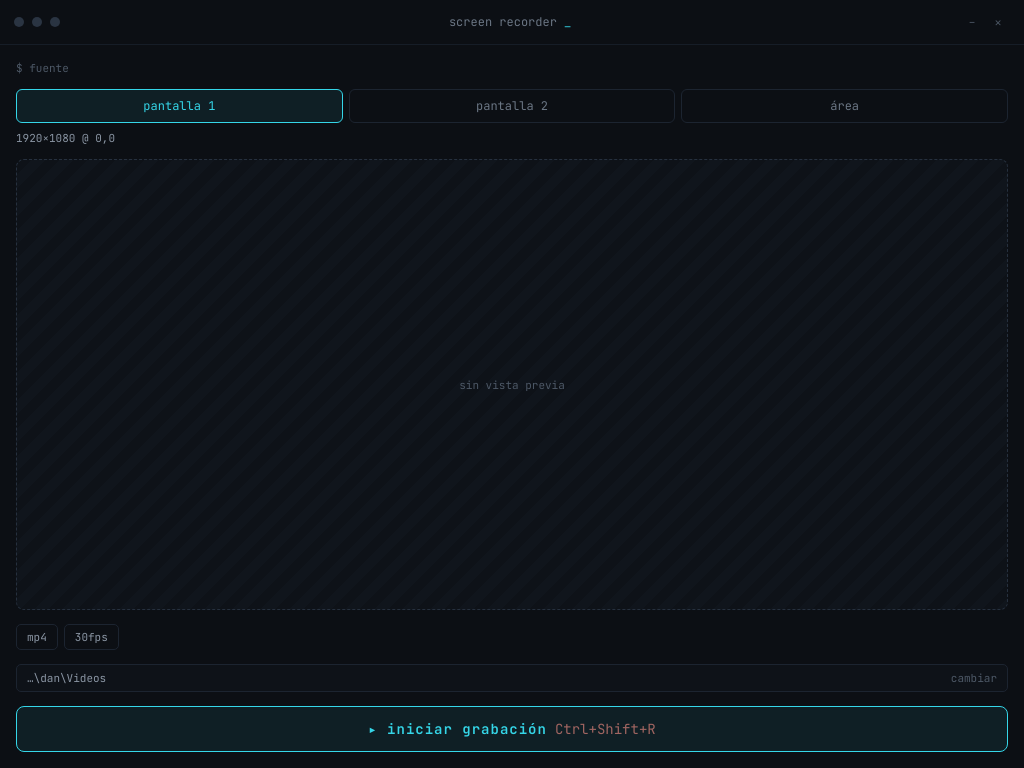
Scenario: modo grabación › no deja la barra puesta si falla el arranque
The image size is (1024, 768).
Click the button "▸ iniciar grabación Ctrl+Shift+R" at x=512, y=729, box [16,706,1008,752]
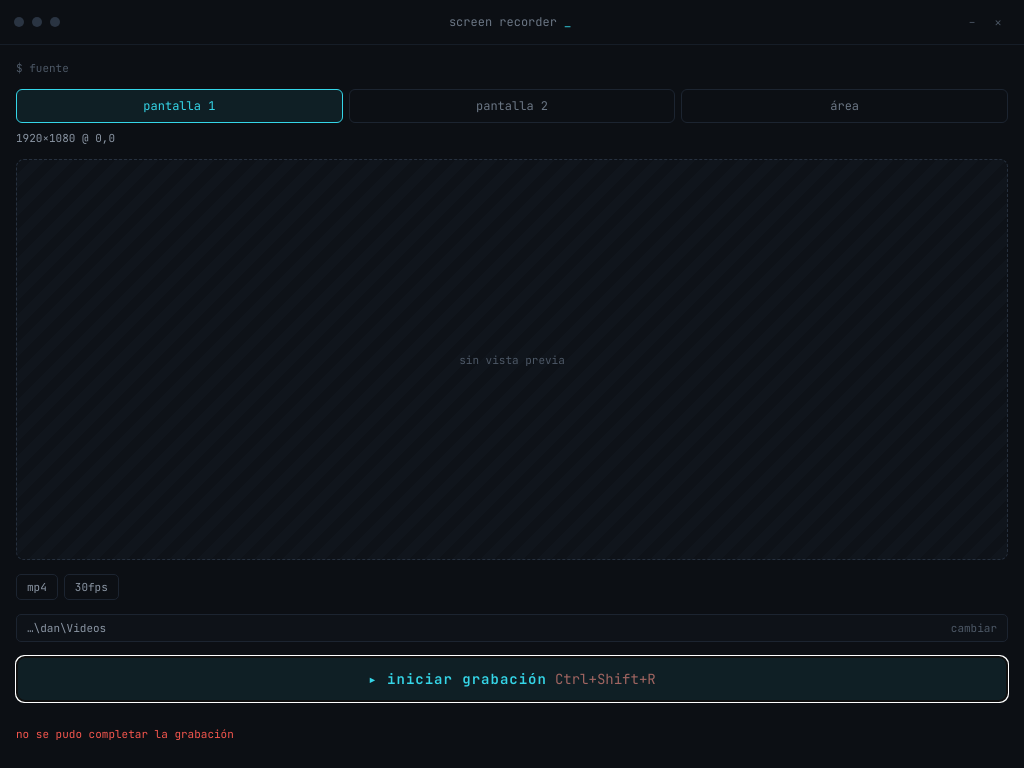
Expected: the text "no se pudo completar la grabación" is shown, [16,727,234,741]
